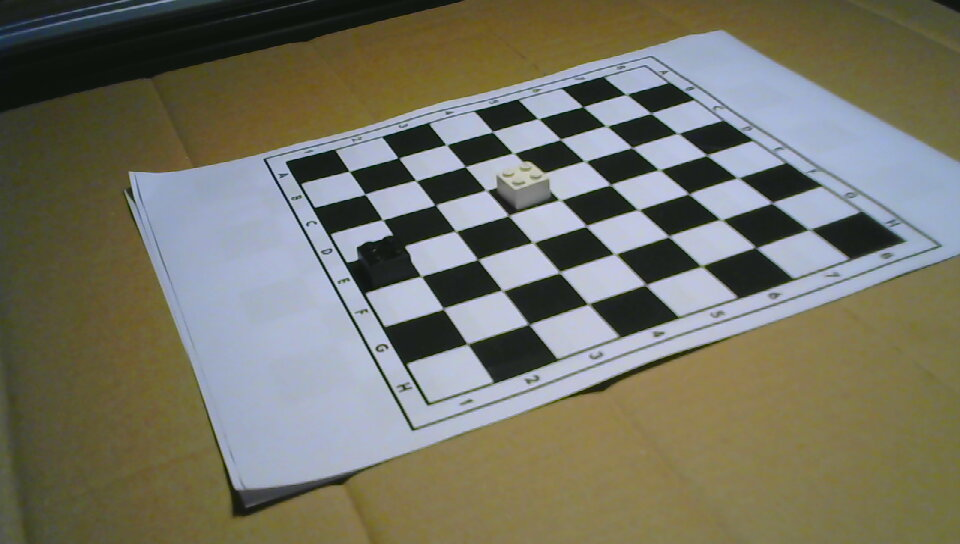bp: (356, 237, 412, 283)
wp: (497, 161, 550, 209)
